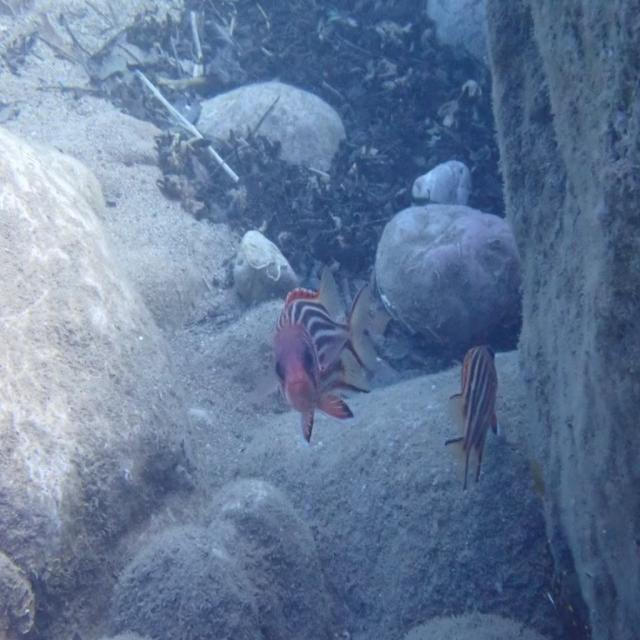Asker Baligi: (271, 265, 379, 444), (443, 342, 500, 492)
